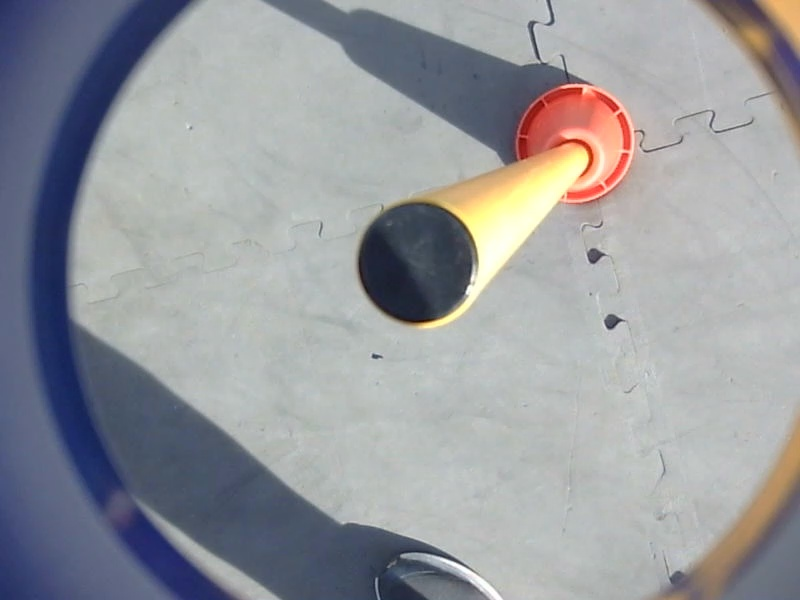tip: (346, 193, 488, 337)
